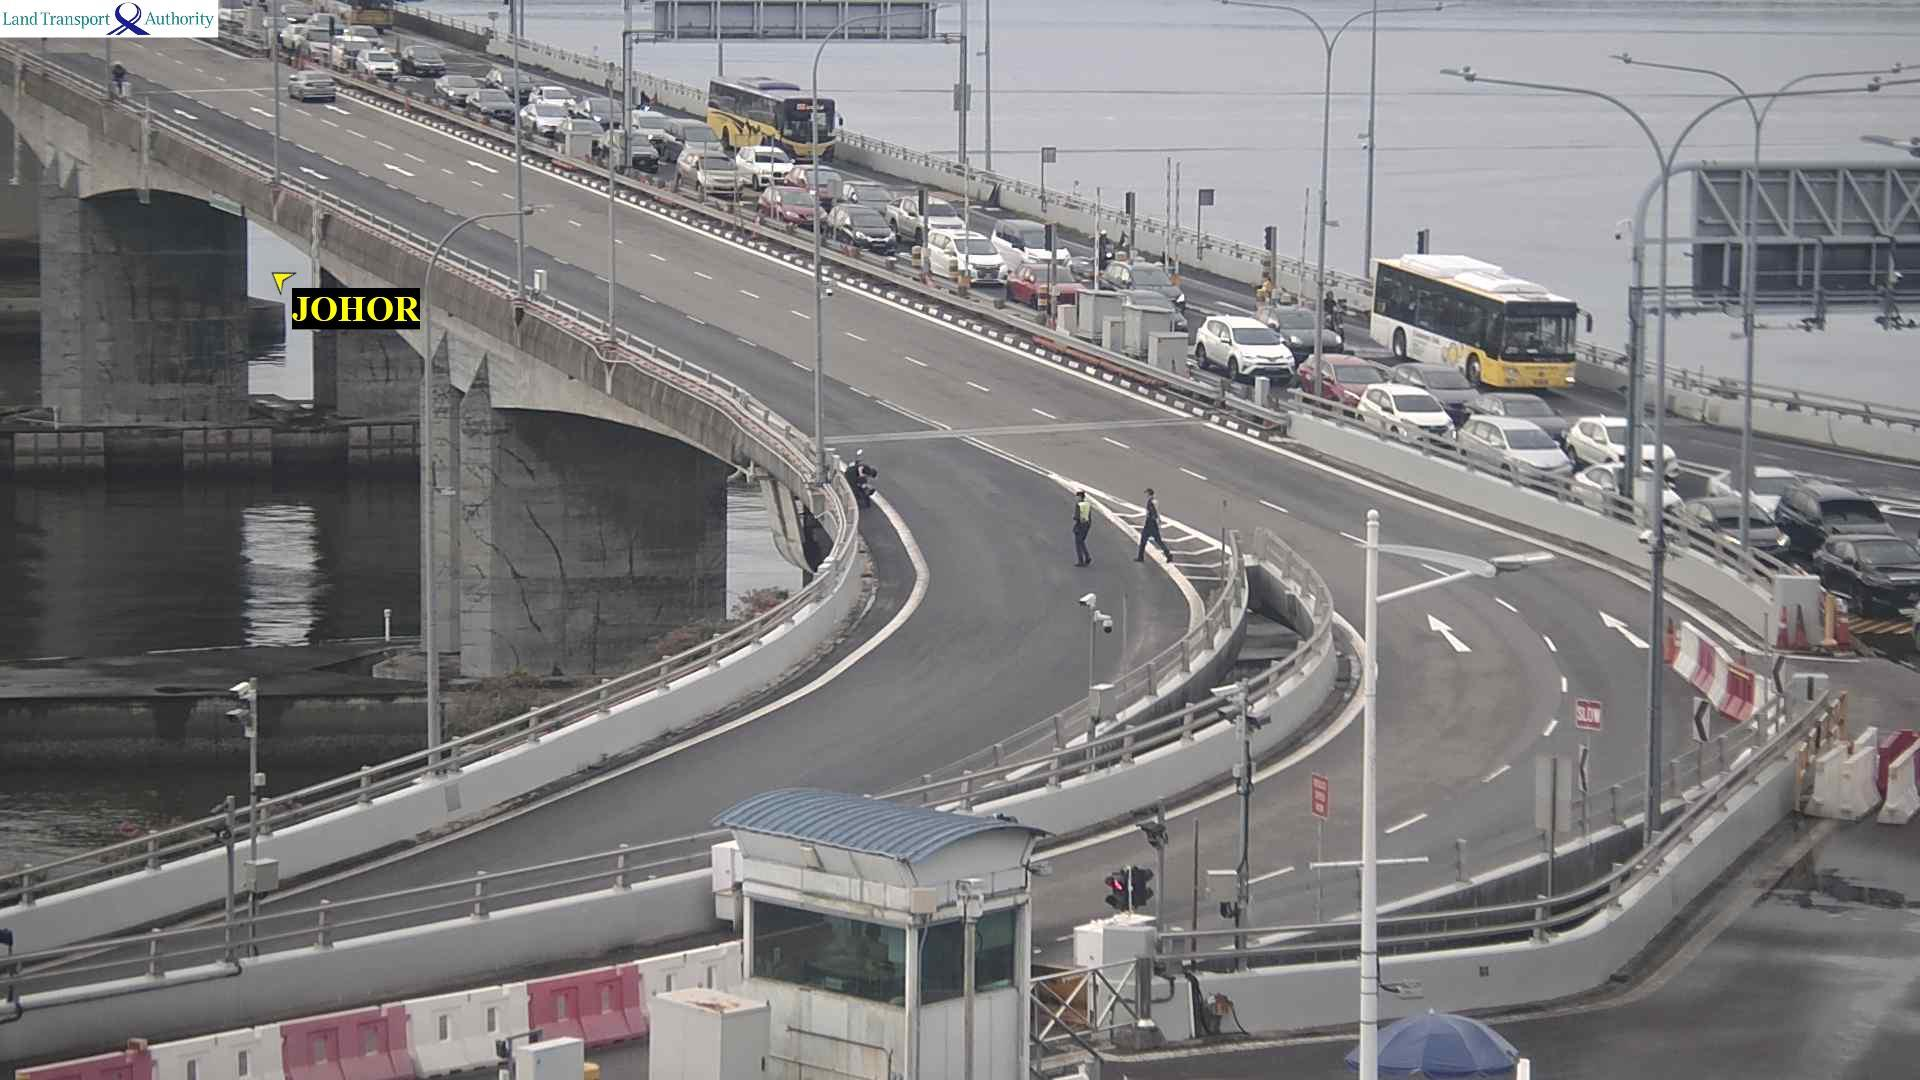vehicle-secondlink-johor: (289, 70, 335, 104)
vehicle-secondlink-singapore: (1369, 257, 1589, 401), (708, 79, 835, 162), (1457, 415, 1571, 495), (1813, 535, 1920, 617), (1775, 484, 1895, 554), (1681, 496, 1791, 572), (1565, 417, 1677, 484), (1187, 316, 1295, 381), (1572, 467, 1684, 512), (1258, 305, 1344, 363), (1299, 353, 1386, 409), (1394, 364, 1480, 419), (1712, 468, 1801, 521), (1102, 262, 1184, 316), (1362, 386, 1455, 430), (993, 219, 1071, 269), (1007, 264, 1089, 311), (928, 236, 1011, 280), (887, 196, 967, 240), (827, 204, 895, 253), (758, 186, 825, 232), (1464, 393, 1565, 423), (678, 150, 742, 198), (303, 0, 352, 55), (665, 120, 723, 165), (599, 132, 658, 173), (736, 146, 791, 185), (843, 181, 894, 220), (786, 166, 843, 202), (521, 103, 568, 138), (468, 91, 516, 124), (578, 98, 624, 131), (487, 69, 534, 100), (357, 49, 400, 83), (334, 36, 369, 75), (401, 45, 447, 75), (433, 73, 481, 99), (530, 87, 576, 115), (632, 111, 667, 141), (348, 25, 384, 50), (282, 26, 309, 50)
